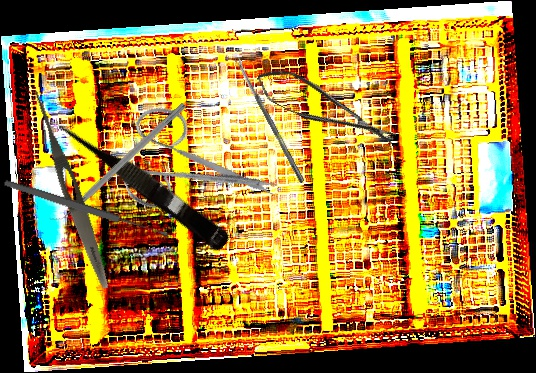Chopper: (45, 94, 188, 229)
Dressing Forceps: (24, 85, 116, 292)
Iris Scissors: (101, 74, 282, 249)
Micro Scissor: (52, 110, 234, 254), (250, 59, 401, 159)
Surgical Spoon: (2, 177, 170, 241), (234, 56, 306, 184)
